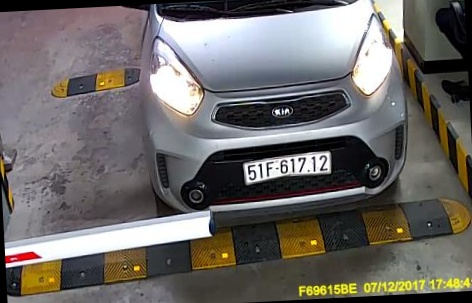plate: (242, 145, 338, 187)
